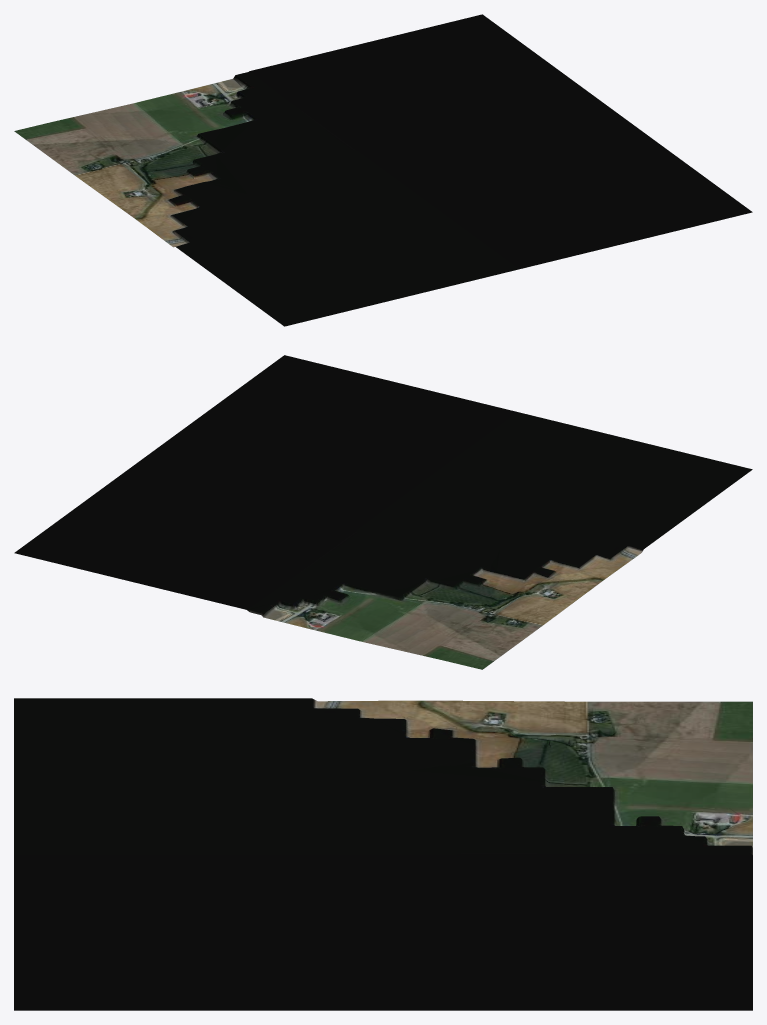
The model's file is map_10_257_428.dae.
3 renders of one model, top to bottom at view 1: azimuth 30°, elevation 25°; view 2: azimuth 150°, elevation 25°; view 3: azimuth 270°, elevation 25°, orthographic. The views are drawn at different scales.
Parts seen in each view (by area): view 1: Ter0; view 2: Ter0; view 3: Ter0.
Boxes of the visible parts, x1,y1,x2,y2 form: Ter0: (14,14,752,326); Ter0: (14,355,752,669); Ter0: (14,698,752,1010).
Bounding box in the file's own units: 2044 × 2044 × 29.41.
Materials: 3 (3 with a texture image).
